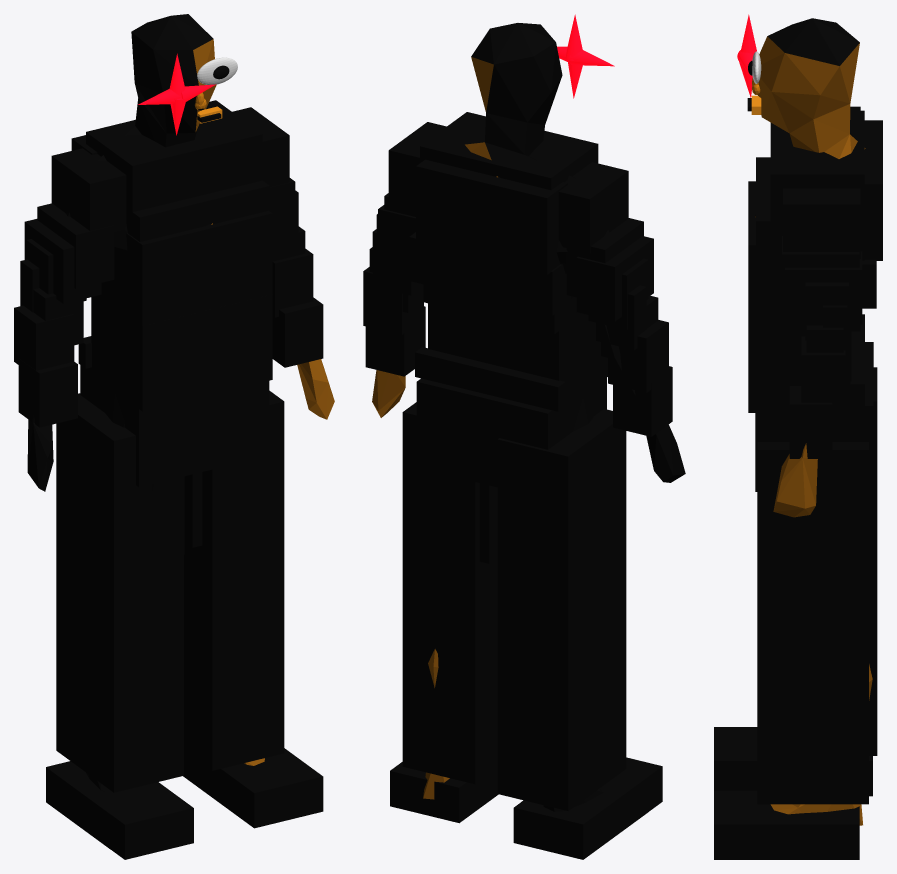
File: Joe-3d.glb
3 renders of one model, left to right at view 1: azimuth 30°, elevation 25°; view 2: azimuth 150°, elevation 25°; view 3: azimuth 270°, elevation 25°, orthographic.
Visible parts, largest first — view 1: Cube.003, Cube.002, Cube.007, Cube.008, Cube.006, low poly guy, Cube.009, Cube.031, Cube.020, Cube.030, Cube.010, Cube.032 (+13 smaller); view 2: Cube.003, Cube.002, low poly guy, Cube.011, Cube.006, Cube.007, Cube.030, Cube.029, Cube.009, Cube.020, Cube.028, Cube.031 (+14 smaller); view 3: Cube.002, low poly guy, Cube.031, Cube.009, Cube.012, Cube.007, Cube.006, Cube.008, Cube.003, Cube.014, Cube.011, Cube.019 (+11 smaller).
Boxes of the visible parts, x1,y1,x2,y2 form: Cube.003: [56, 393, 183, 792]; Cube.002: [184, 390, 284, 770]; Cube.007: [91, 294, 272, 411]; Cube.008: [100, 210, 272, 325]; Cube.006: [80, 365, 269, 487]; low poly guy: [27, 14, 334, 792]; Cube.009: [86, 100, 262, 236]; Cube.031: [183, 748, 323, 828]; Cube.020: [51, 148, 126, 231]; Cube.030: [46, 761, 178, 849]; Cube.010: [126, 180, 269, 241]; Cube.032: [110, 782, 193, 859]; Cube.003: [497, 409, 626, 810]; Cube.002: [402, 402, 497, 784]; low poly guy: [372, 23, 685, 811]; Cube.011: [416, 159, 567, 274]; Cube.006: [416, 371, 606, 487]; Cube.007: [428, 303, 607, 400]; Cube.030: [513, 770, 648, 859]; Cube.029: [409, 232, 571, 315]; Cube.009: [420, 112, 598, 189]; Cube.020: [558, 162, 628, 253]; Cube.028: [415, 347, 565, 411]; Cube.031: [390, 762, 498, 823]; Cube.002: [757, 442, 868, 804]; low poly guy: [755, 18, 872, 825]; Cube.031: [714, 790, 859, 859]; Cube.009: [770, 110, 864, 260]; Cube.012: [783, 188, 860, 258]; Cube.007: [748, 327, 851, 412]; Cube.006: [755, 342, 873, 491]; Cube.008: [748, 181, 860, 331]; Cube.003: [869, 367, 877, 755]; Cube.014: [785, 251, 862, 324]; Cube.011: [864, 120, 882, 260]; Cube.019: [789, 386, 832, 458].
Bounding box in the file's own units: 73 × 184 × 35.64.
